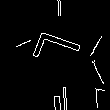L_E: (30, 32, 90, 79)
